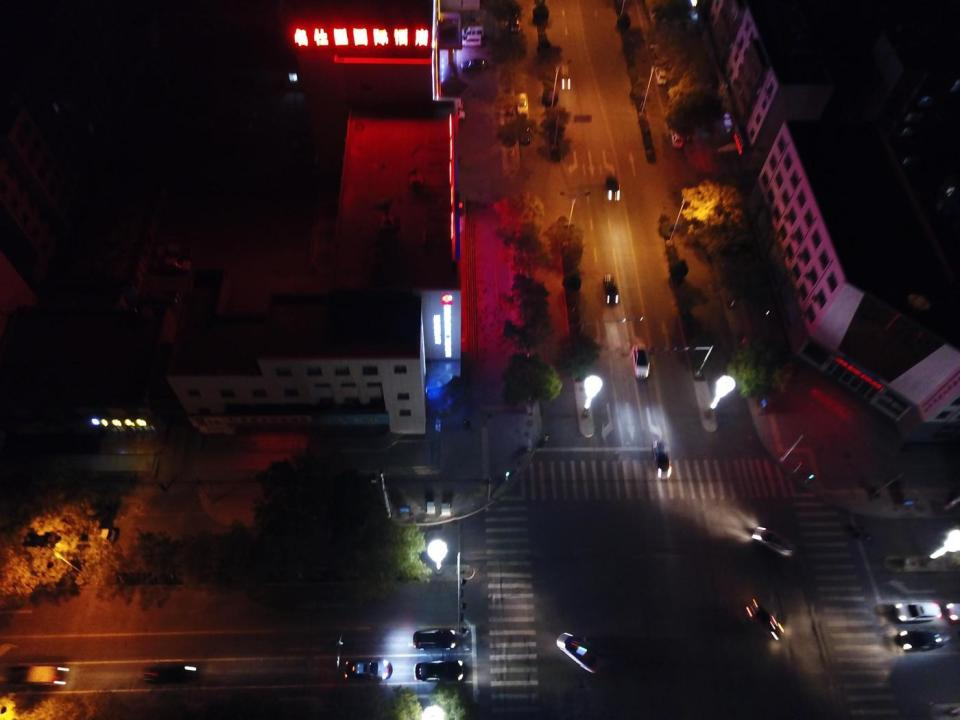car: (556, 633, 601, 674), (746, 602, 785, 642), (753, 526, 796, 558), (9, 665, 69, 684), (414, 660, 465, 682), (896, 601, 942, 624), (343, 659, 392, 680), (66, 528, 116, 548), (897, 631, 946, 651), (143, 664, 199, 681), (338, 630, 381, 651), (412, 629, 456, 649), (653, 440, 672, 479), (154, 243, 192, 260), (156, 257, 192, 274), (631, 345, 648, 379), (603, 275, 620, 304), (606, 175, 622, 200), (145, 289, 177, 301), (462, 58, 488, 72), (518, 125, 531, 144), (652, 44, 664, 63), (517, 92, 527, 114), (656, 67, 667, 86), (445, 97, 462, 109), (448, 110, 466, 120)
van: (670, 124, 684, 148), (460, 26, 483, 38), (460, 36, 482, 47), (562, 65, 571, 90), (509, 15, 520, 33)
